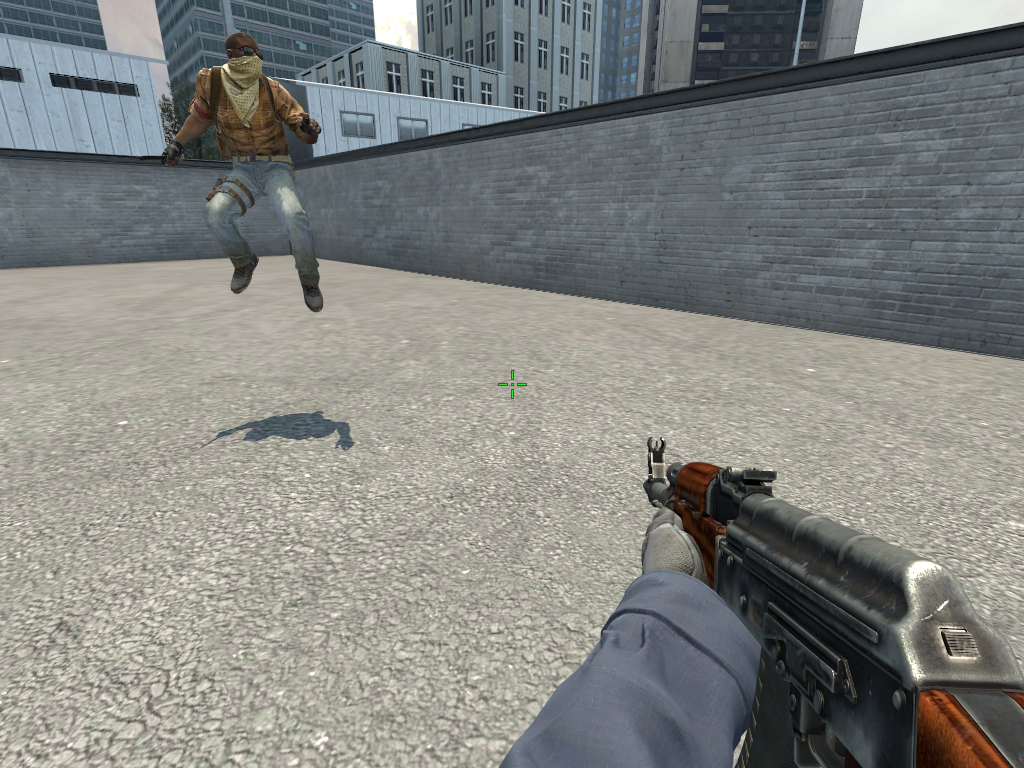tr head: (223, 31, 268, 91)
